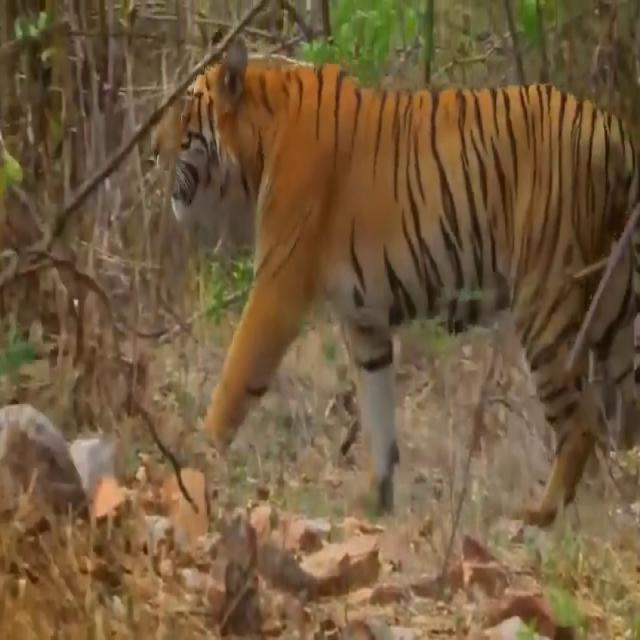tiger: (152, 25, 640, 539)
